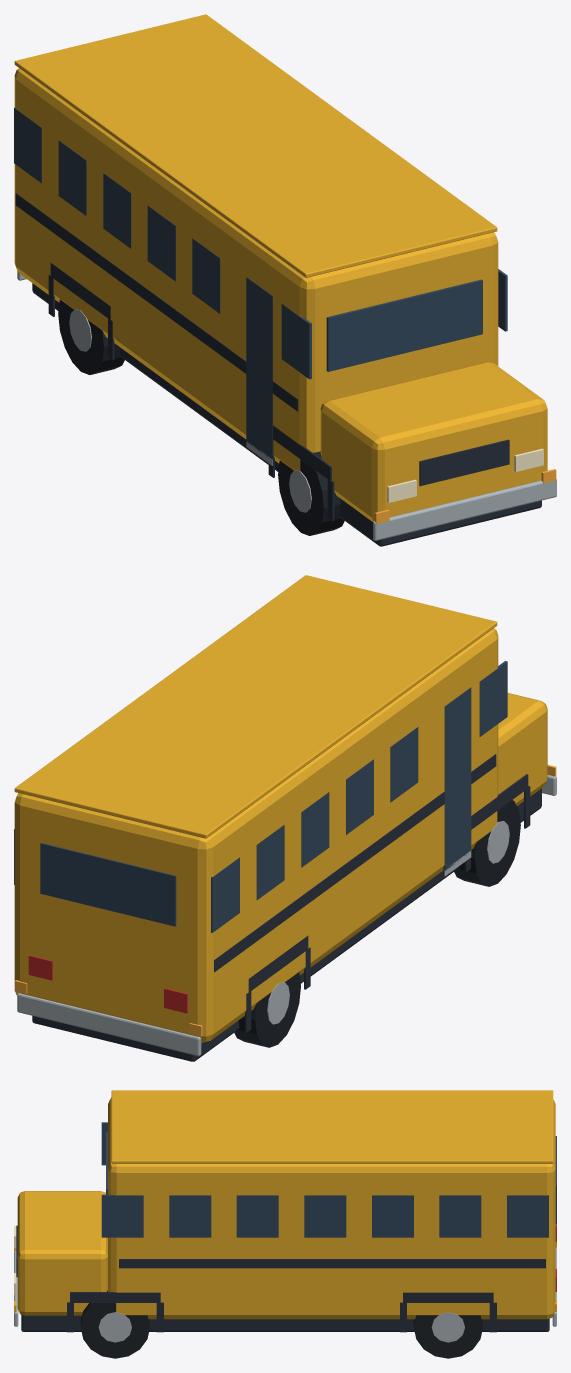
File: npc_school_bus.glb
The picture shows the model from 3 angles, top to bottom: view 1: azimuth 30°, elevation 25°; view 2: azimuth 150°, elevation 25°; view 3: azimuth 270°, elevation 25°; orthographic projection. The views are drawn at different scales.
Parts seen in each view (by area): view 1: passenger_shell, roof, bonnet, windshield, passenger_door, front_bumper, chassis, waist_trim_R, wheel_F_R_tire, grille, wheel_R_R_tire, window_0_R (+9 smaller); view 2: passenger_shell, roof, rear_window, passenger_door, bonnet, rear_bumper, chassis, waist_trim_R, wheel_F_R_tire, wheel_R_R_tire, window_0_R, window_2_R (+8 smaller); view 3: passenger_shell, roof, bonnet, chassis, waist_trim_L, wheel_F_L_tire, window_0_L, window_1_L, window_2_L, window_3_L, window_5_L, wheel_R_L_tire (+6 smaller).
Part boxes in pixels (bbox=[...]): passenger_shell: bbox=[14, 68, 498, 470]; roof: bbox=[14, 14, 497, 277]; bonnet: bbox=[320, 362, 547, 521]; windshield: bbox=[326, 279, 482, 371]; passenger_door: bbox=[246, 277, 272, 459]; front_bumper: bbox=[373, 479, 556, 540]; chassis: bbox=[32, 283, 541, 546]; waist_trim_R: bbox=[15, 193, 298, 411]; wheel_F_R_tire: bbox=[278, 451, 344, 535]; grille: bbox=[419, 439, 509, 486]; wheel_R_R_tire: bbox=[58, 299, 124, 374]; window_0_R: bbox=[281, 304, 311, 379]; passenger_shell: bbox=[14, 628, 498, 1042]; roof: bbox=[14, 575, 497, 838]; rear_window: bbox=[40, 843, 176, 926]; passenger_door: bbox=[443, 687, 471, 870]; bonnet: bbox=[498, 693, 547, 805]; rear_bumper: bbox=[17, 993, 201, 1056]; chassis: bbox=[32, 788, 541, 1061]; waist_trim_R: bbox=[214, 754, 496, 972]; wheel_F_R_tire: bbox=[454, 800, 520, 886]; wheel_R_R_tire: bbox=[234, 972, 300, 1047]; window_0_R: bbox=[479, 661, 507, 736]; window_2_R: bbox=[390, 727, 418, 802]; passenger_shell: bbox=[108, 1097, 555, 1319]; roof: bbox=[111, 1090, 553, 1163]; bonnet: bbox=[17, 1191, 107, 1315]; chassis: bbox=[21, 1314, 549, 1331]; waist_trim_L: bbox=[119, 1259, 545, 1268]; wheel_F_L_tire: bbox=[80, 1290, 149, 1358]; window_0_L: bbox=[101, 1194, 143, 1237]; window_1_L: bbox=[169, 1195, 211, 1237]; window_2_L: bbox=[236, 1195, 278, 1237]; window_3_L: bbox=[304, 1195, 346, 1237]; window_5_L: bbox=[439, 1195, 481, 1237]; wheel_R_L_tire: bbox=[413, 1315, 482, 1358].
Size of the model in its own units: 2.4 by 3 by 7.5.
